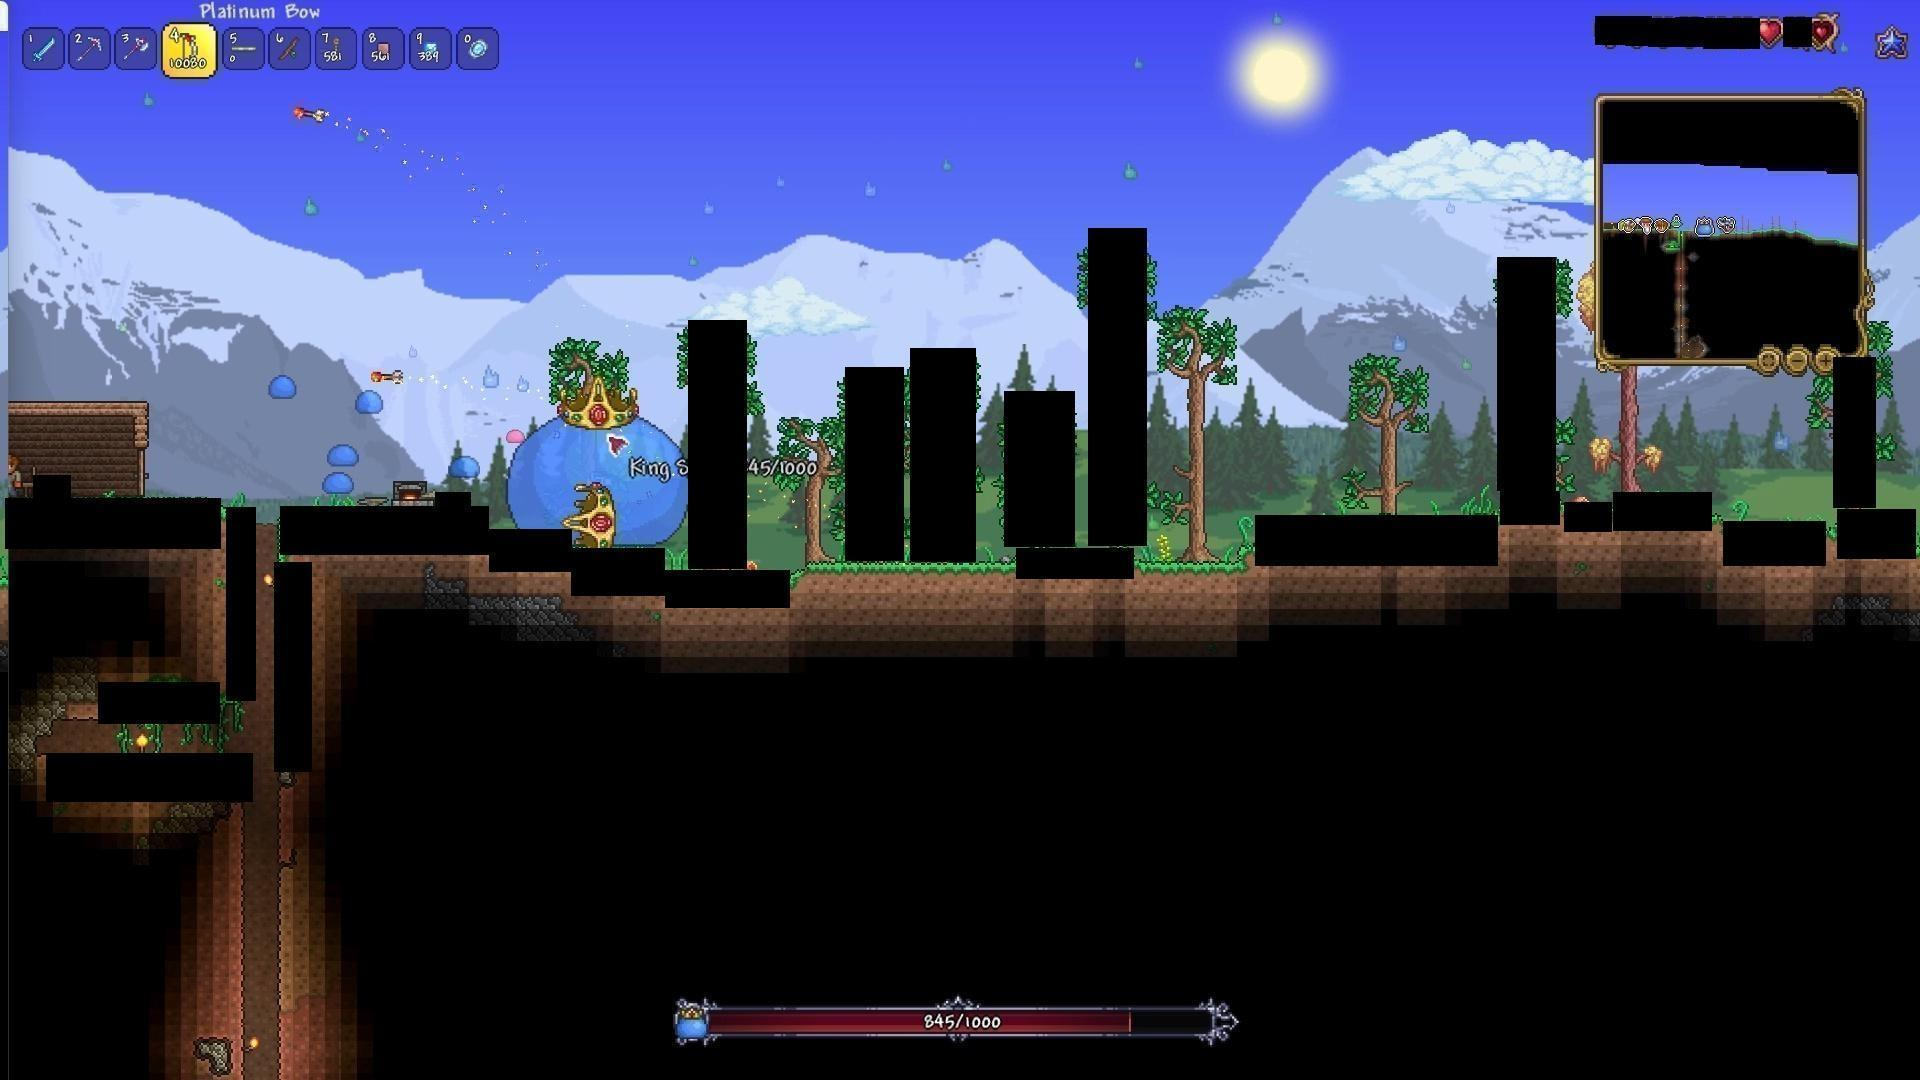dirt: (789, 562, 1015, 601), (1138, 553, 1244, 583)
heart: (1756, 18, 1784, 47), (1809, 16, 1836, 44)
slime: (266, 367, 301, 404), (443, 451, 487, 480), (316, 468, 359, 497), (326, 440, 365, 471), (351, 385, 385, 415), (504, 425, 524, 444)
tree: (1167, 295, 1232, 549), (773, 407, 843, 559), (1357, 349, 1419, 512), (1610, 368, 1644, 491)
